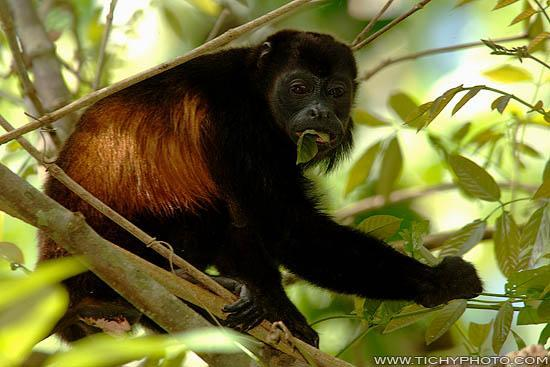monkey: (52, 34, 484, 346)
